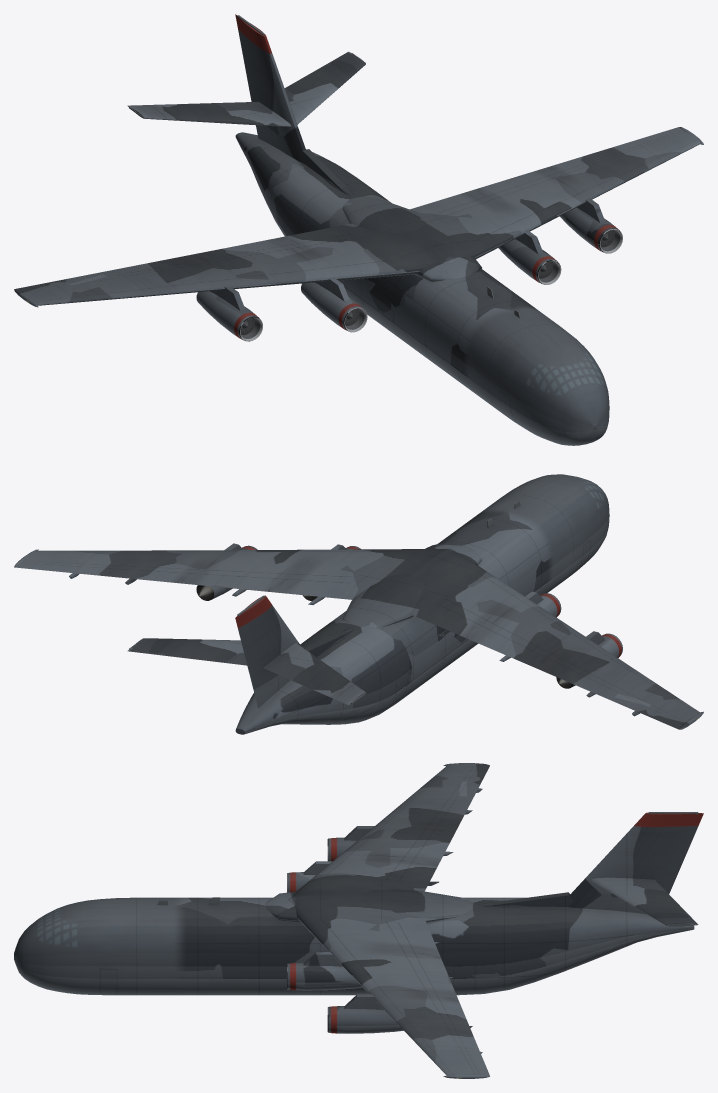
File: heavy-transport.fbx
3 views of the same model, one above another, from view 1: azimuth 30°, elevation 25°; view 2: azimuth 150°, elevation 25°; view 3: azimuth 270°, elevation 25° (orthographic). The views are drawn at different scales.
Visible parts, largest first — view 1: Body; view 2: Body; view 3: Body.
Part boxes in pixels (x1,y1,x2,y2): Body: (14,14,703,445); Body: (14,474,703,734); Body: (14,763,703,1078).
Size of the model in its own units: 72.68 by 19.6 by 67.55.
1 material, 1 textured.
